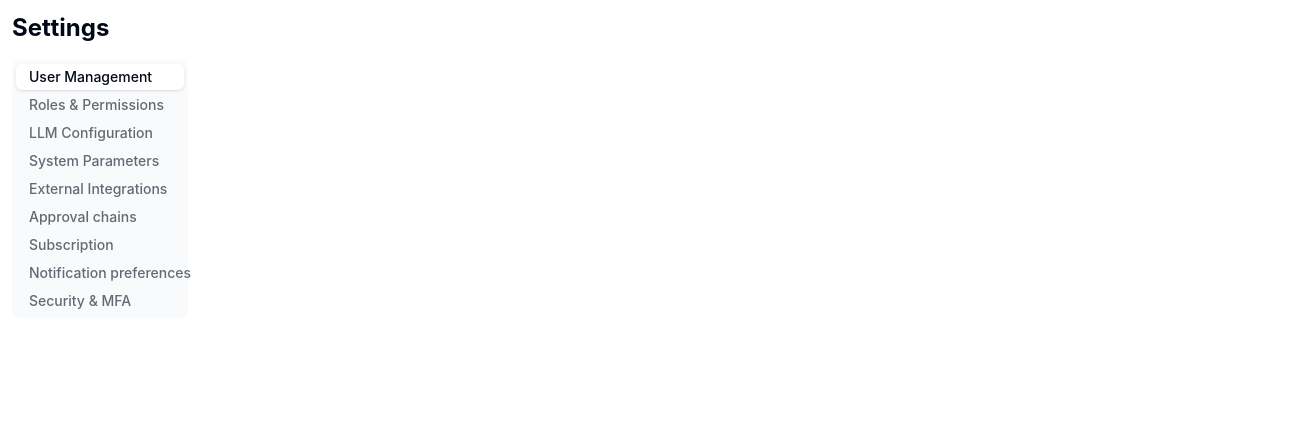
Test: 设置中心英文界面 › 权限矩阵和设置 Tab 不应显示中文硬编码
expect the tab "Approval chains" is shown: met, box [16,204,184,230]
expect the tab "Notification preferences" is shown: met, box [16,260,184,286]
Click the tab "Roles & Permissions" at [100, 105], box [16,92,184,118]
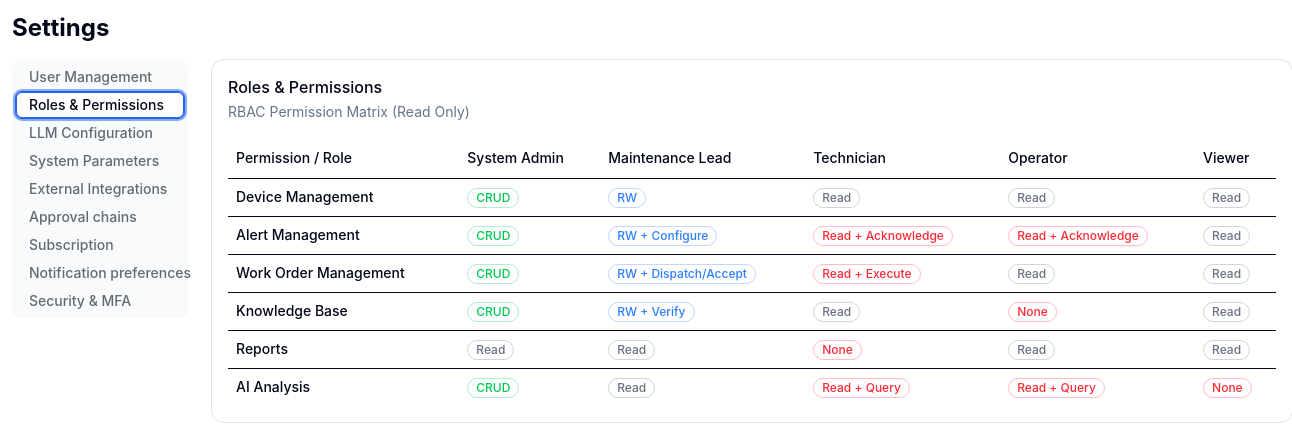
expect the text "RW + Configure" is shown: met, box [608,226,717,246]
expect the text "RW + Dispatch/Accept" is shown: met, box [608,264,756,284]
expect the text "Read + Acknowledge" is shown 2 times: met, box [813,226,953,246]; [1008,226,1148,246]
